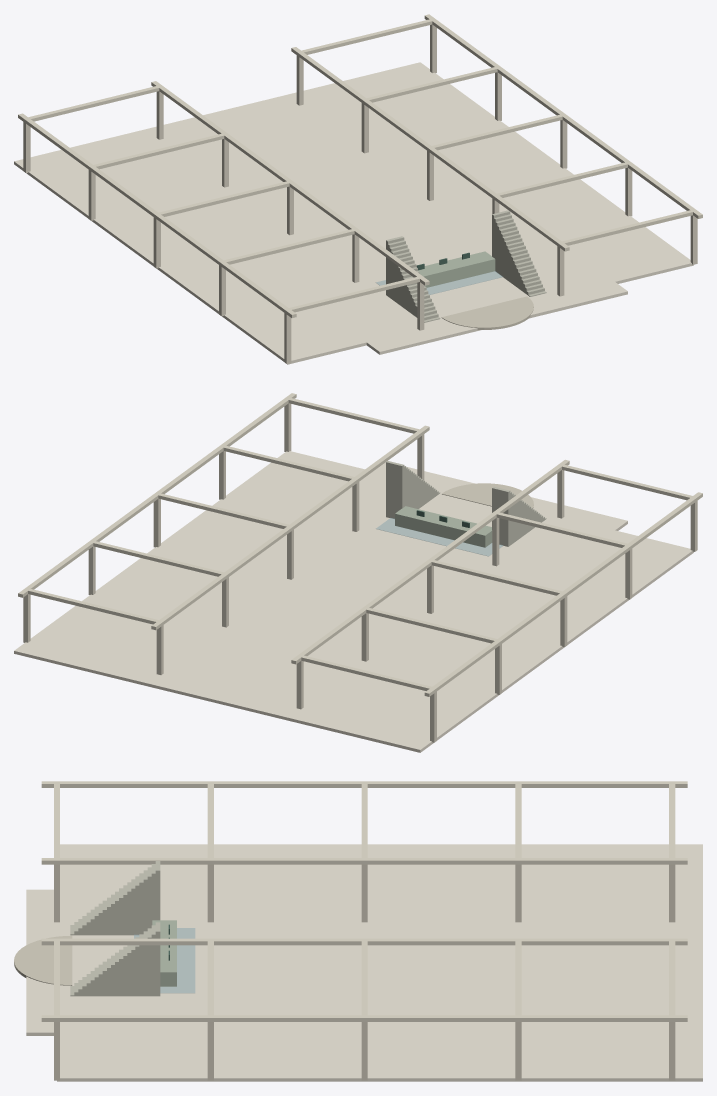
File: 图书馆_1楼_空间剖切.glb
3 views of the same model, one above another, from view 1: azimuth 30°, elevation 25°; view 2: azimuth 150°, elevation 25°; view 3: azimuth 270°, elevation 25° (orthographic). The views are drawn at different scales.
Parts seen in each view (by area): view 1: guide_outline_floor_slab, schematic_beam (×4), side_gallery_beam (×10), photo_guided_curved_landing, service_counter, guide_function_tint; view 2: guide_outline_floor_slab, schematic_beam (×4), side_gallery_beam (×10), service_counter, central_stair_tread (×2), photo_guided_curved_landing, guide_function_tint; view 3: guide_outline_floor_slab, schematic_beam (×4), side_gallery_beam (×8), photo_guided_curved_landing, guide_function_tint, service_counter.
Boxes of the visible parts, x1,y1,x2,y2 form: guide_outline_floor_slab: [14, 62, 693, 364]; schematic_beam (×4): [18, 14, 702, 317]; side_gallery_beam (×10): [27, 19, 692, 312]; photo_guided_curved_landing: [441, 296, 533, 329]; service_counter: [418, 251, 495, 287]; guide_function_tint: [376, 271, 502, 294]; guide_outline_floor_slab: [14, 451, 693, 752]; schematic_beam (×4): [18, 393, 702, 696]; side_gallery_beam (×10): [28, 397, 693, 690]; service_counter: [395, 506, 492, 547]; central_stair_tread (×2): [386, 461, 510, 546]; photo_guided_curved_landing: [442, 483, 533, 508]; guide_function_tint: [376, 518, 503, 556]; guide_outline_floor_slab: [26, 844, 702, 1081]; schematic_beam (×4): [41, 781, 687, 1021]; side_gallery_beam (×8): [207, 782, 675, 1016]; photo_guided_curved_landing: [14, 935, 72, 985]; guide_function_tint: [134, 928, 195, 993]; service_counter: [152, 920, 176, 986].
Size of the model in its own units: 36.42 by 4.9 by 44.8.
